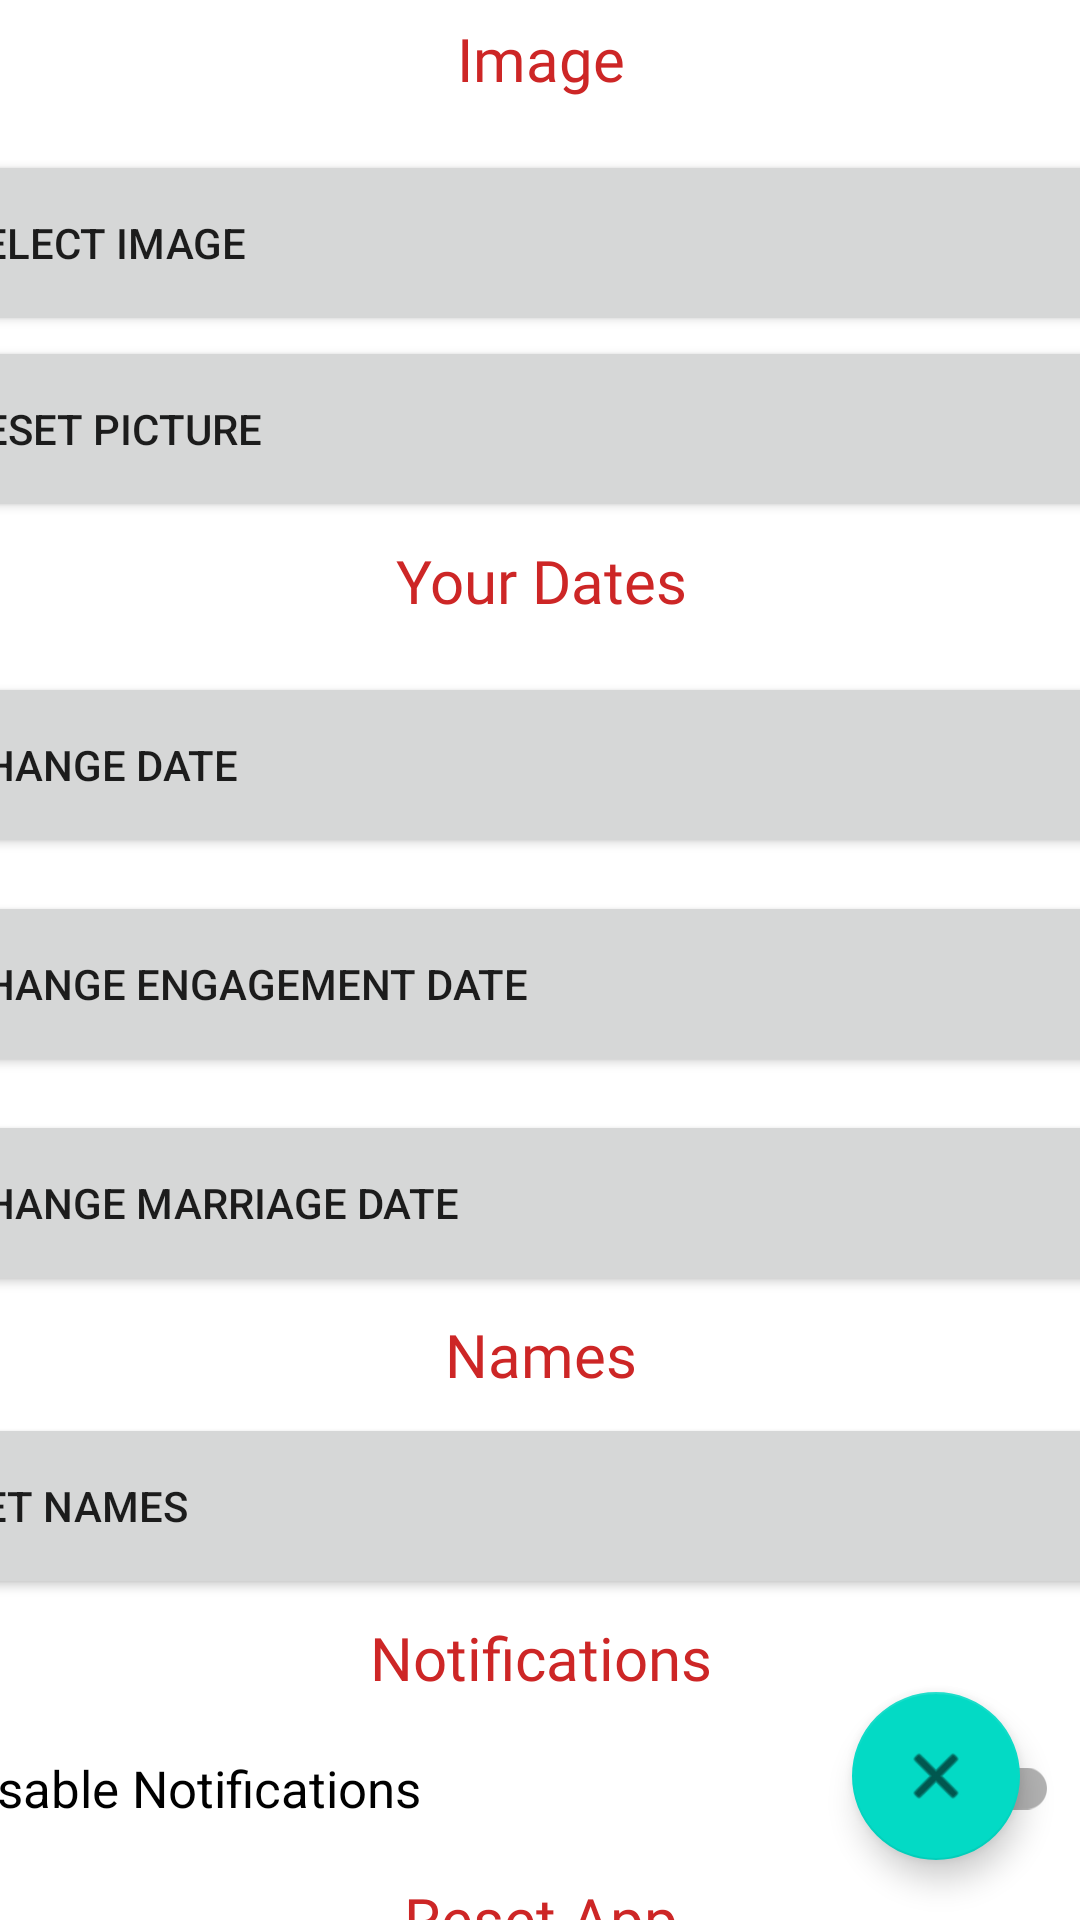

Named icons in this screenshot (1080w x 1920h) and their centers, [x,y]:
close: [936,1776]
